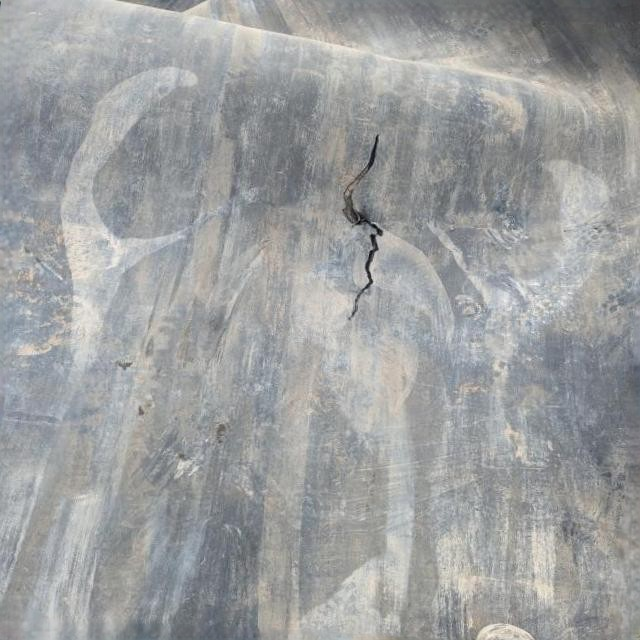Tear: (335, 125, 385, 328)
